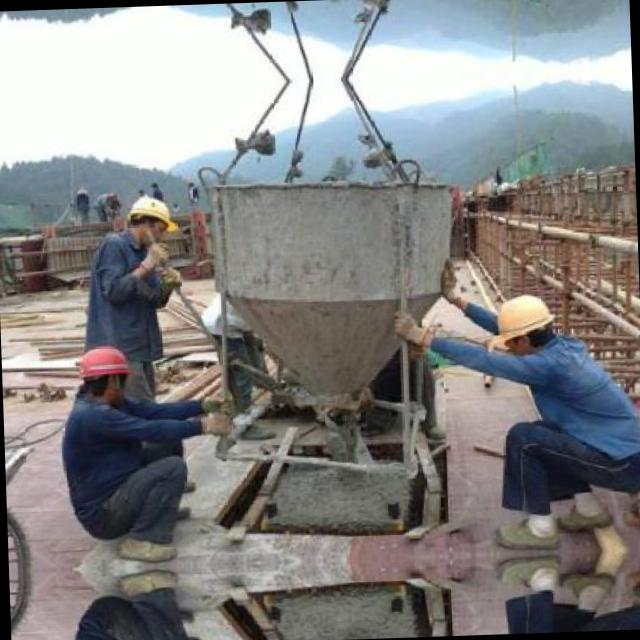helmet: (488, 288, 556, 360), (71, 338, 135, 406), (124, 193, 174, 250)
